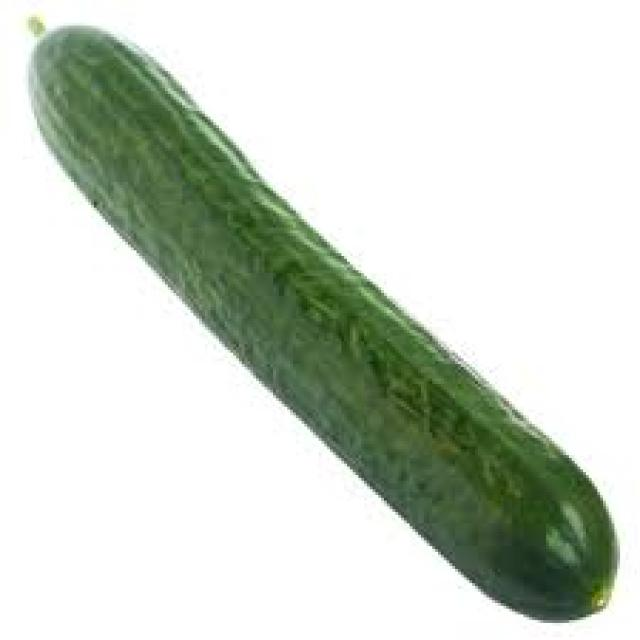cucumber: (23, 17, 620, 623)
